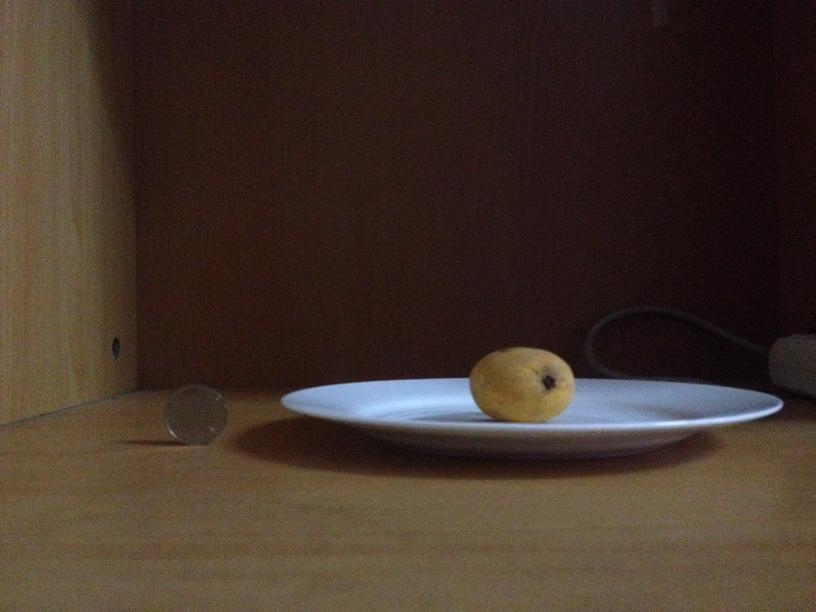coin: (161, 385, 231, 442)
mango: (467, 347, 573, 420)
